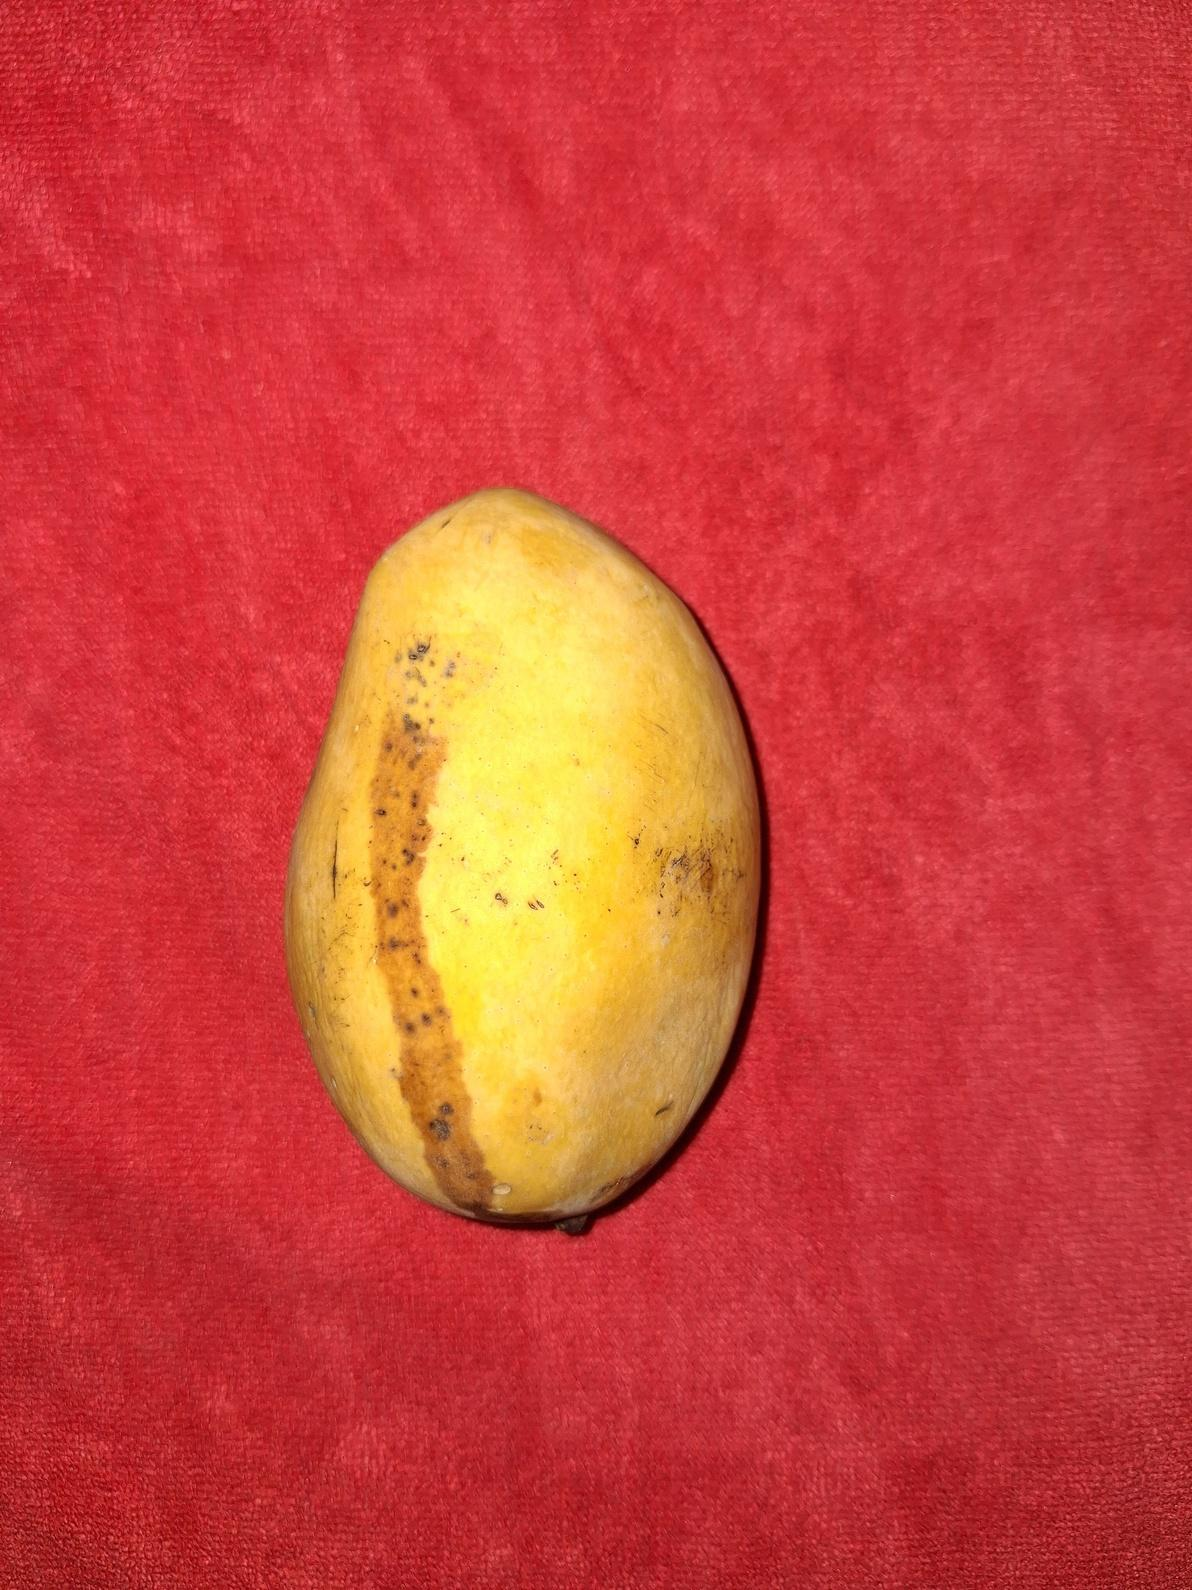mango: (280, 483, 763, 1231)
